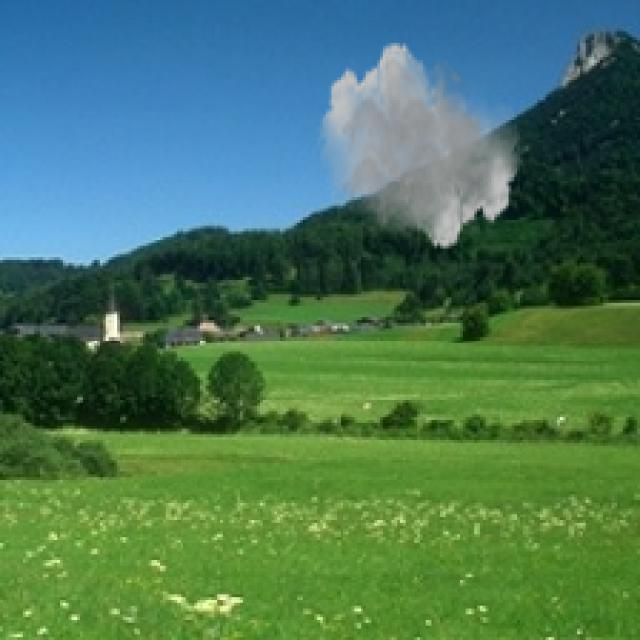smoke: (317, 40, 523, 251)
